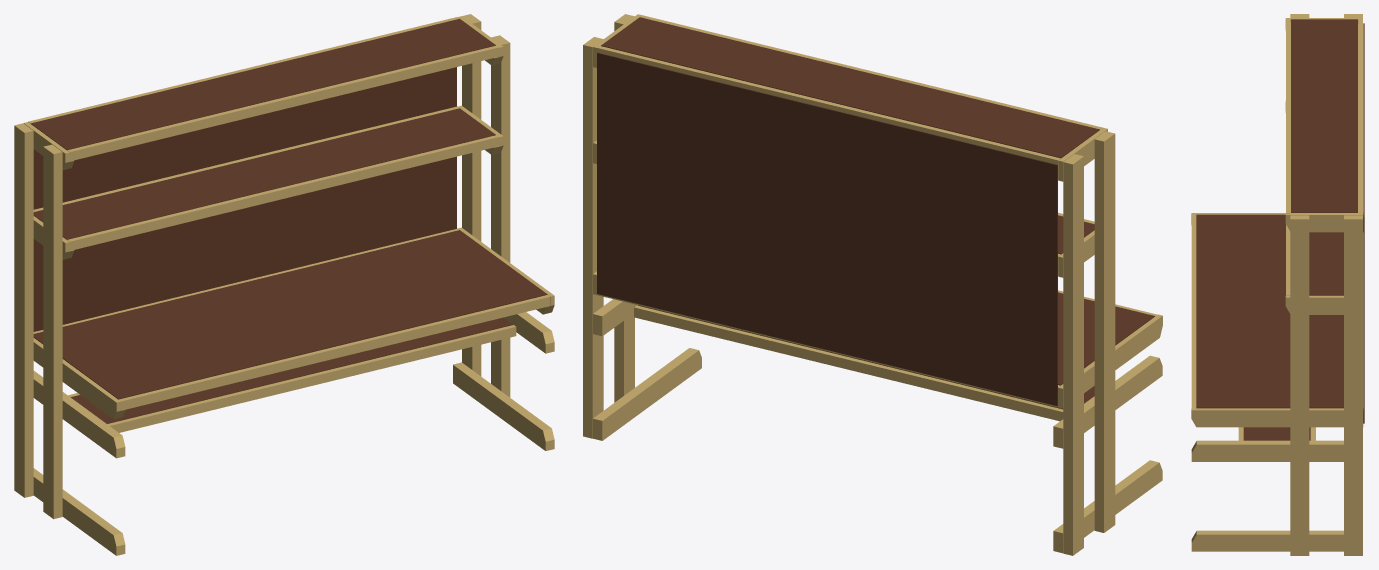
The model's file is custom-desk.obj.
3 views of the same model, side by side, from view 1: azimuth 30°, elevation 25°; view 2: azimuth 150°, elevation 25°; view 3: azimuth 270°, elevation 25° (orthographic). The views are drawn at different scales.
Visible parts, largest first — view 1: back, desktop, sides, top_shelf, lower_shelf, sliding_shelf, legs, slide_supports; view 2: back, sides, top_shelf, sliding_shelf, legs, desktop, slide_supports, lower_shelf; view 3: desktop, top_shelf, sides, lower_shelf, legs, slide_supports, sliding_shelf, back.
Part boxes in pixels (x1,y1,x2,y2): back: (33,67,456,331); desktop: (33,227,554,419); sides: (14,14,510,519); top_shelf: (23,16,503,169); lower_shelf: (33,105,503,259); sliding_shelf: (68,317,516,432); legs: (33,362,554,555); slide_supports: (33,312,554,458); back: (597,52,1057,405); sides: (583,14,1115,555); top_shelf: (593,14,1107,181); sliding_shelf: (634,305,1094,421); legs: (593,348,1162,553); desktop: (593,271,1162,408); slide_supports: (593,299,1162,448); lower_shelf: (593,140,1094,277); desktop: (1191,213,1363,427); top_shelf: (1285,18,1362,232); sides: (1290,14,1362,555); lower_shelf: (1285,101,1343,314); legs: (1191,530,1343,551); slide_supports: (1191,440,1343,461); sliding_shelf: (1238,427,1315,440); back: (1363,23,1364,423).
Bounding box in the file's own units: 17.03 × 13.03 × 6.07.
